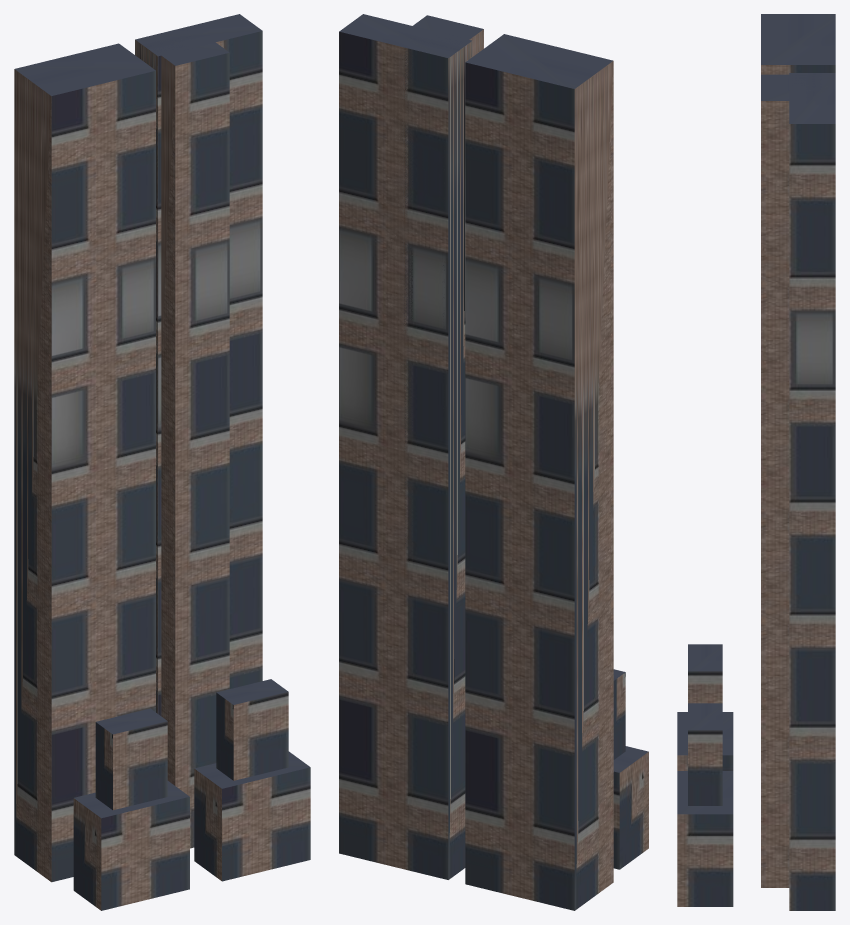
Rendered from block_25.obj.
3 views of the same model, side by side, from view 1: azimuth 30°, elevation 25°; view 2: azimuth 150°, elevation 25°; view 3: azimuth 270°, elevation 25° (orthographic). The views are drawn at different scales.
Parts seen in each view (by area): view 1: b0, b2, b1, b3; view 2: b0, b2, b1; view 3: b2, b3, b0, b1.
Boxes of the visible parts, x1=… form: b0: x1=14, y1=43, x2=155, y2=882; b2: x1=135, y1=14, x2=262, y2=848; b1: x1=73, y1=708, x2=189, y2=910; b3: x1=194, y1=679, x2=310, y2=881; b0: x1=465, y1=34, x2=613, y2=910; b2: x1=339, y1=14, x2=483, y2=879; b1: x1=613, y1=669, x2=648, y2=869; b2: x1=761, y1=73, x2=835, y2=910; b3: x1=677, y1=703, x2=733, y2=906; b0: x1=761, y1=14, x2=835, y2=74; b1: x1=677, y1=644, x2=733, y2=770.
Bounding box in the file's own units: 4.2 × 14 × 2.55.
